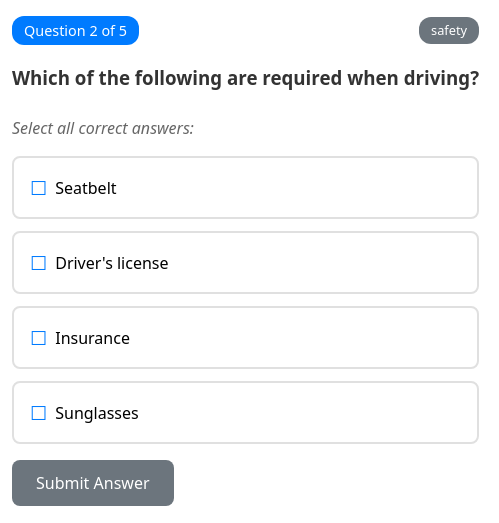
Test: Question Component › enables submit button when options are selected for multiple choice
This screenshot has width=499, height=523.
Click the button "☐ Seatbelt". click: (86, 188)
box: x1=12 y1=156 x2=479 y2=219
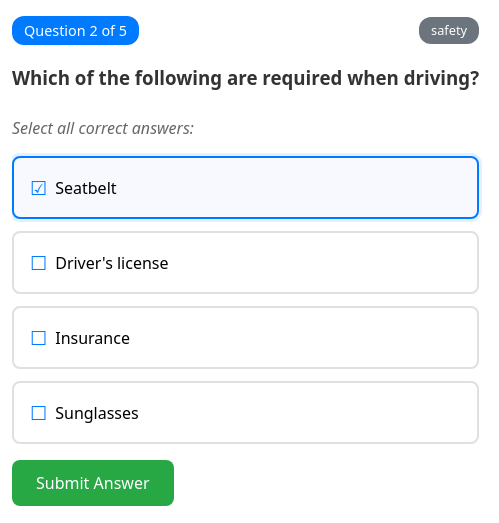
Now the button "Submit Answer" is enabled, box x1=12 y1=460 x2=174 y2=506
